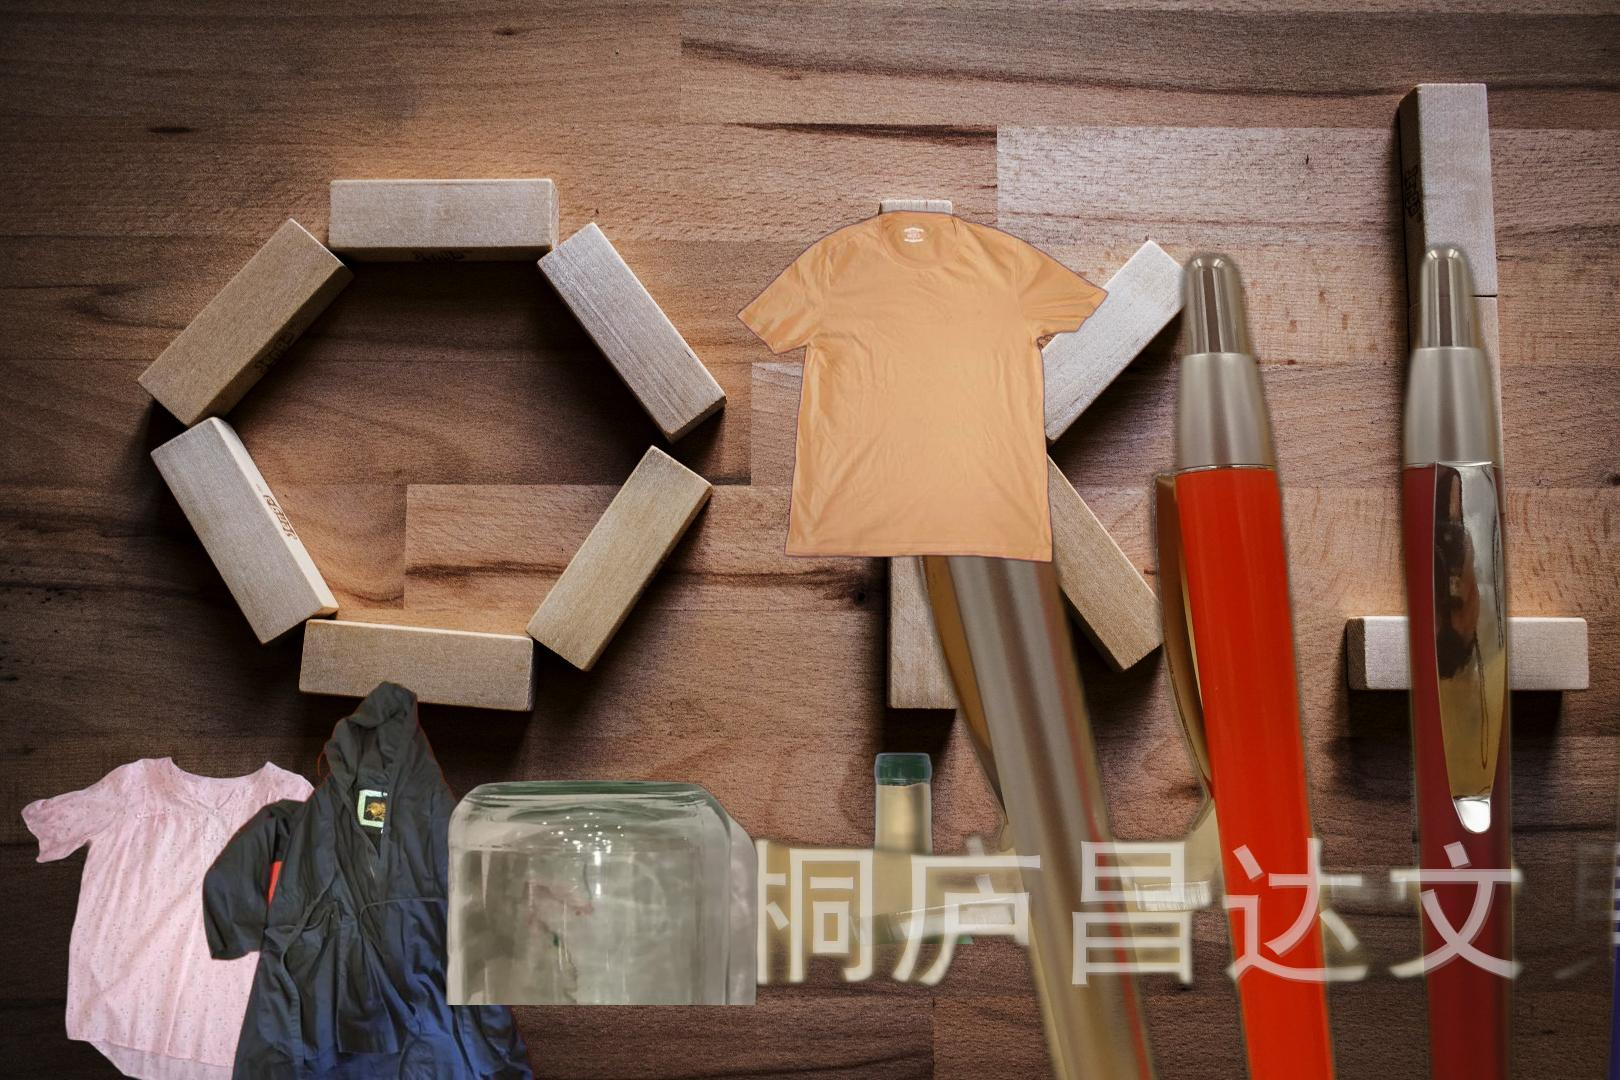clothes: (199, 676, 594, 1080), (733, 205, 1111, 567), (14, 752, 394, 1080)
glass: (442, 777, 763, 1005), (828, 749, 981, 944)
penholder: (580, 230, 1620, 1080)
